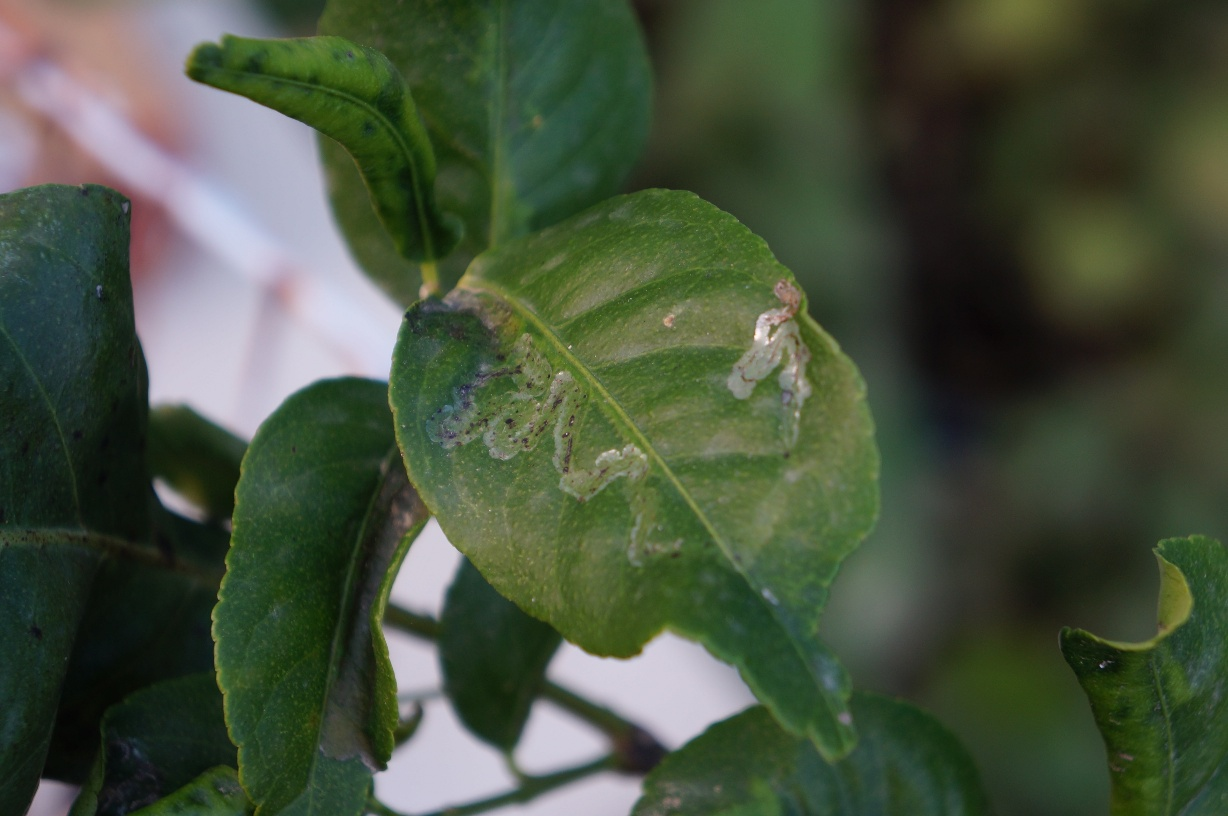damage: (393, 260, 860, 570)
